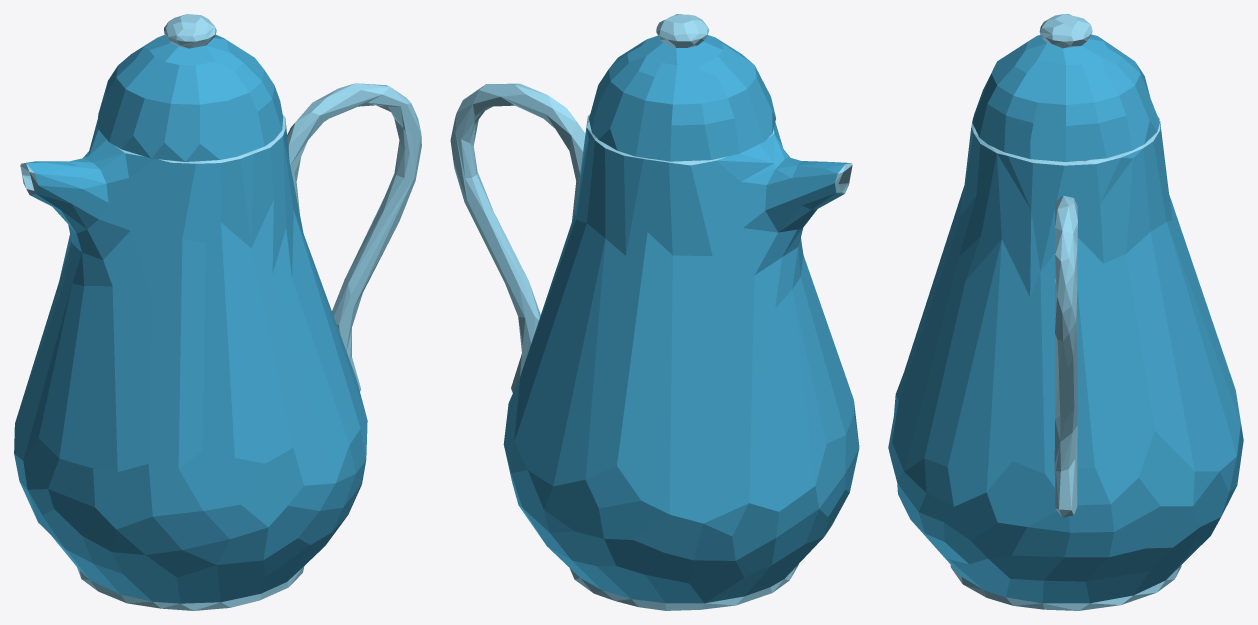
Rendered from TeapotBlue.fbx.
3 views of the same model, side by side, from view 1: azimuth 30°, elevation 25°; view 2: azimuth 150°, elevation 25°; view 3: azimuth 270°, elevation 25° (orthographic).
Parts seen in each view (by area): view 1: TeapotLowPolyMetalBlue, TeapotLidLowPolyBlue; view 2: TeapotLowPolyMetalBlue, TeapotLidLowPolyBlue; view 3: TeapotLowPolyMetalBlue, TeapotLidLowPolyBlue.
Boxes of the visible parts, <box> form: TeapotLowPolyMetalBlue: <box>14,83,421,610</box>; TeapotLidLowPolyBlue: <box>97,14,283,161</box>; TeapotLowPolyMetalBlue: <box>450,83,859,610</box>; TeapotLidLowPolyBlue: <box>589,14,775,161</box>; TeapotLowPolyMetalBlue: <box>888,115,1243,610</box>; TeapotLidLowPolyBlue: <box>972,14,1159,161</box>.
Bounding box in the file's own units: 16.78 × 22.07 × 13.07.
